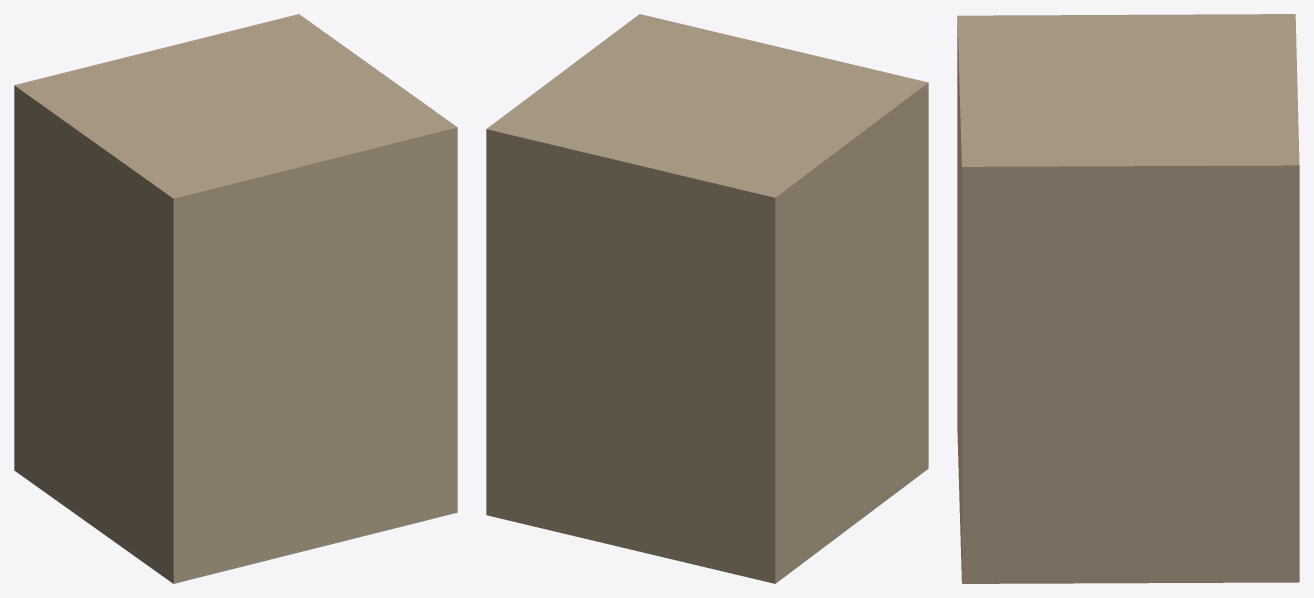
Rendered from bld_163484438.dae.
3 renders of one model, left to right at view 1: azimuth 30°, elevation 25°; view 2: azimuth 150°, elevation 25°; view 3: azimuth 270°, elevation 25°, orthographic. The views are drawn at different scales.
Parts seen in each view (by area): view 1: bld_163484438; view 2: bld_163484438; view 3: bld_163484438.
Boxes of the visible parts, x1,y1,x2,y2 form: bld_163484438: [14, 14, 457, 583]; bld_163484438: [486, 14, 928, 583]; bld_163484438: [957, 14, 1299, 583].
Bounding box in the file's own units: 6.29 × 5.95 × 8.
